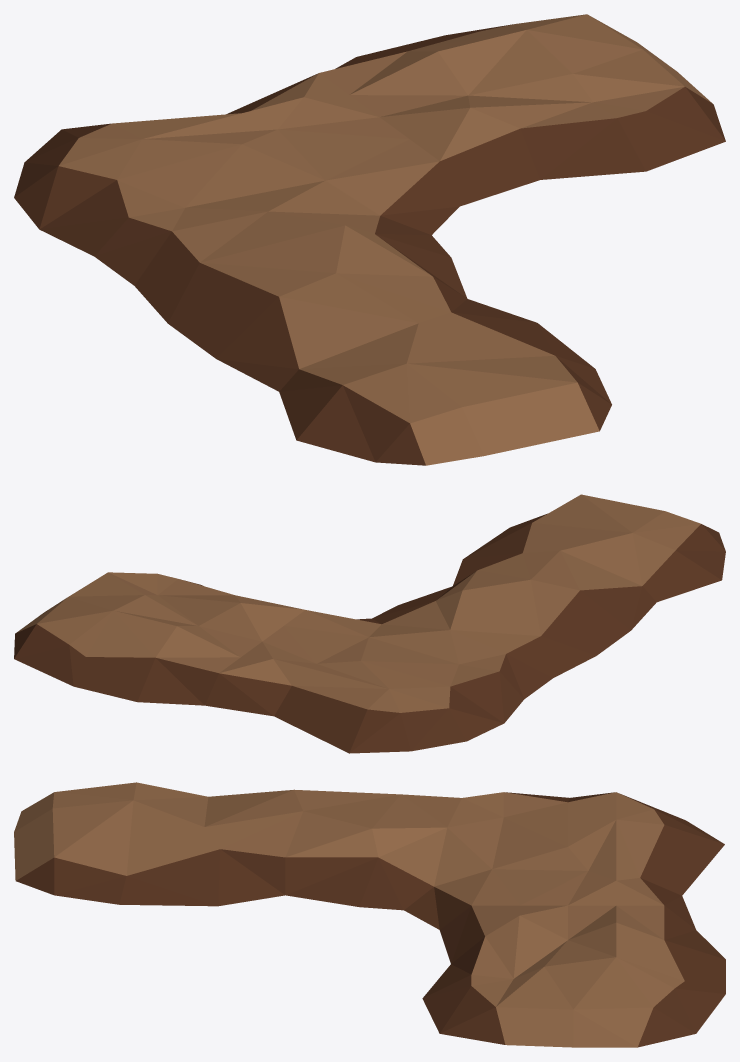
Rendered from Road_ground_3 Asia.fbx.
3 views of the same model, one above another, from view 1: azimuth 30°, elevation 25°; view 2: azimuth 150°, elevation 25°; view 3: azimuth 270°, elevation 25° (orthographic). The views are drawn at different scales.
Parts seen in each view (by area): view 1: Road_ground_3; view 2: Road_ground_3; view 3: Road_ground_3.
Boxes of the visible parts, x1,y1,x2,y2 form: Road_ground_3: (14, 14, 725, 465); Road_ground_3: (14, 494, 725, 753); Road_ground_3: (14, 782, 725, 1047).
Size of the model in its own units: 5.61 by 0.4248 by 6.52.
